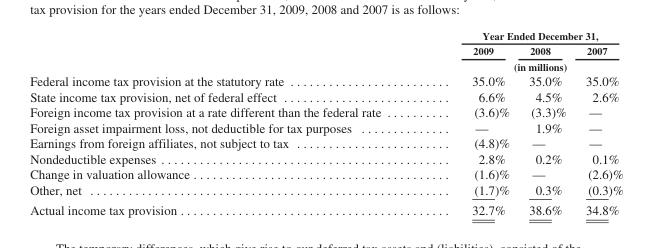table: (29, 28, 622, 217)
table column: (29, 28, 425, 217), (425, 28, 518, 217), (518, 28, 575, 217), (575, 28, 622, 217)
table column header: (29, 28, 622, 72)
table row: (29, 181, 622, 199), (29, 199, 622, 217), (29, 42, 622, 58), (29, 72, 622, 88), (29, 103, 622, 119), (29, 134, 622, 150), (29, 165, 622, 181), (29, 88, 622, 103), (29, 119, 622, 134), (29, 150, 622, 165), (29, 28, 622, 42), (29, 58, 622, 72)
table spanning cell: (425, 28, 622, 42), (425, 58, 622, 72)
